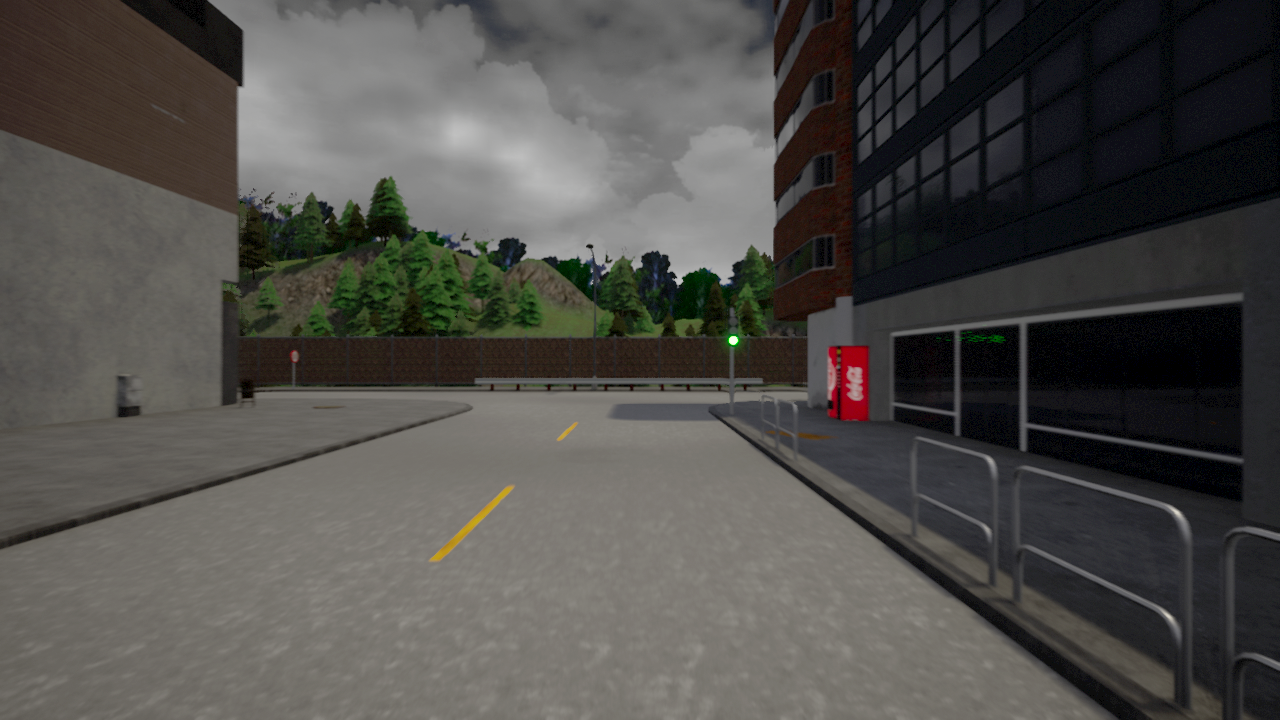green: (727, 315, 740, 345)
